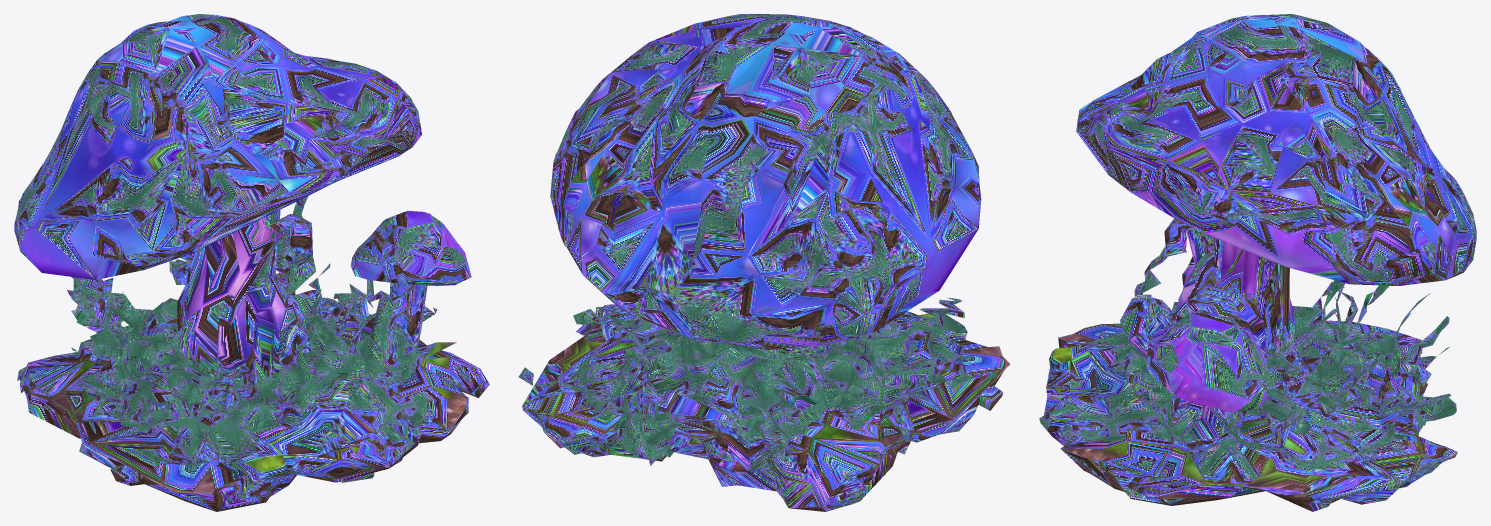
Rendered from glowcap.glb.
3 views of the same model, side by side, from view 1: azimuth 30°, elevation 25°; view 2: azimuth 150°, elevation 25°; view 3: azimuth 270°, elevation 25° (orthographic). The views are drawn at different scales.
Bounding box in the file's own units: 0.9187 × 0.9 × 0.9089.
1 material, 1 textured.
